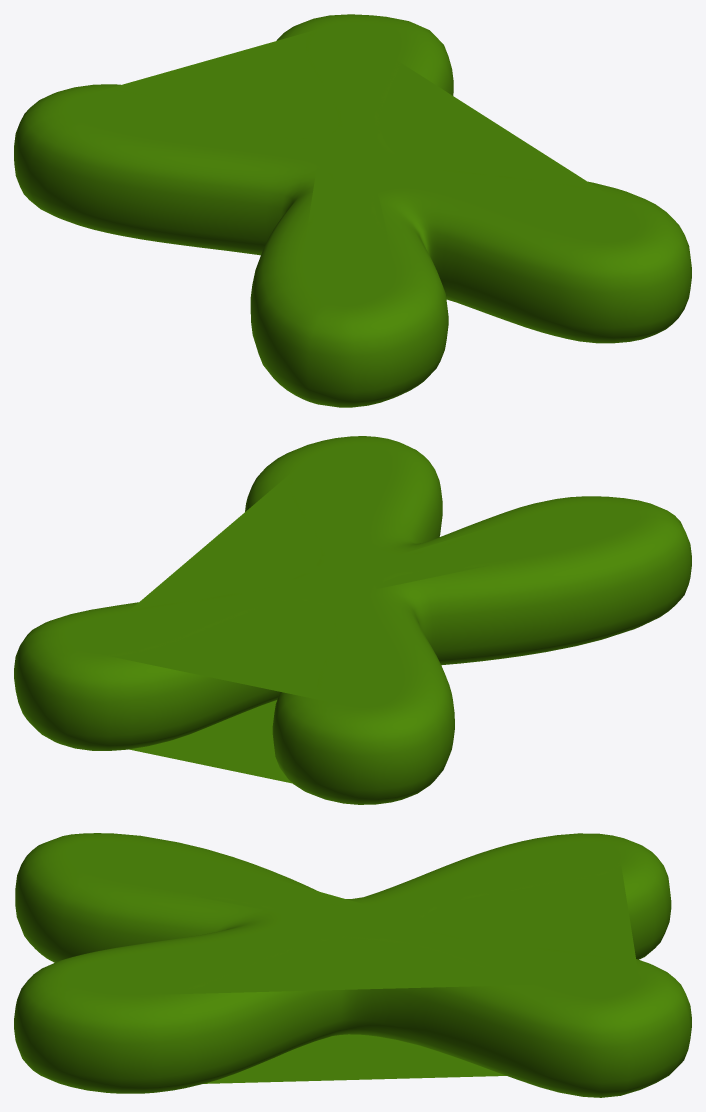
3 renders of one model, top to bottom at view 1: azimuth 30°, elevation 25°; view 2: azimuth 150°, elevation 25°; view 3: azimuth 270°, elevation 25°, orthographic. The views are drawn at different scales.
Visible parts, largest first — view 1: Curve.025; view 2: Curve.025; view 3: Curve.025.
Part boxes in pixels (x1=…): Curve.025: x1=14, y1=14, x2=691, y2=407; Curve.025: x1=14, y1=436, x2=691, y2=804; Curve.025: x1=14, y1=833, x2=691, y2=1097.
Size of the model in its own units: 237 by 49.54 by 337.
Materials: 1 (1 with a texture image).
